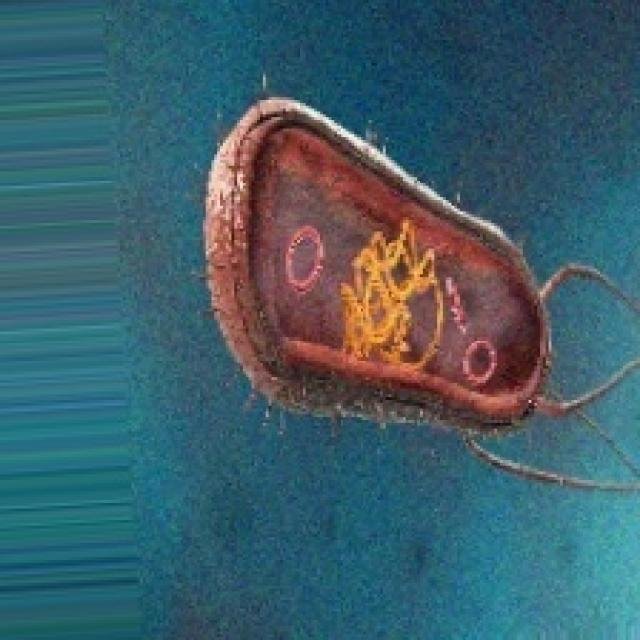Spiral_bacteria: (200, 89, 637, 500)
